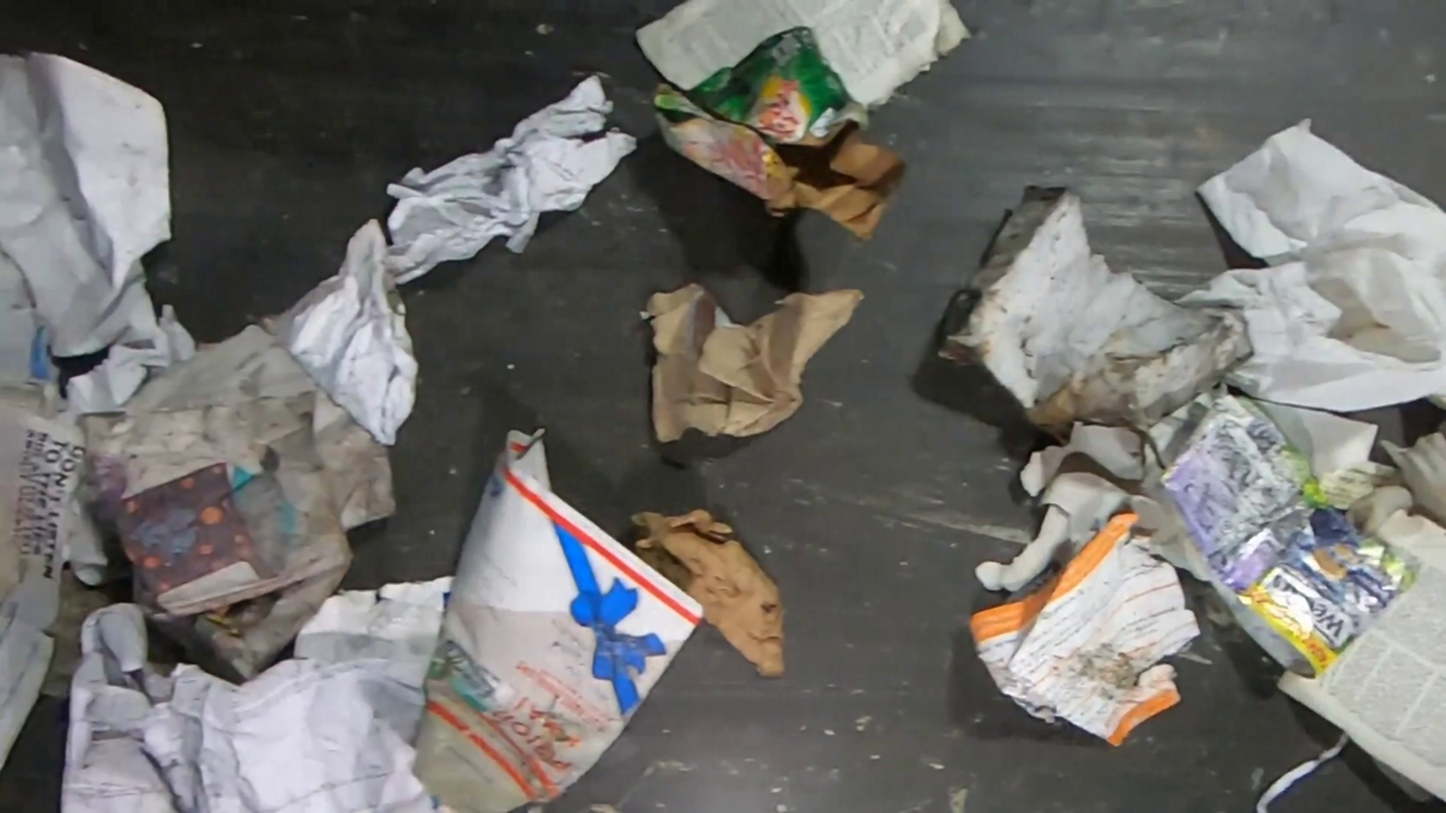cardboard: (411, 423, 707, 813), (648, 24, 912, 247), (627, 508, 791, 676), (0, 244, 61, 385)
plastic: (1156, 395, 1417, 681)
